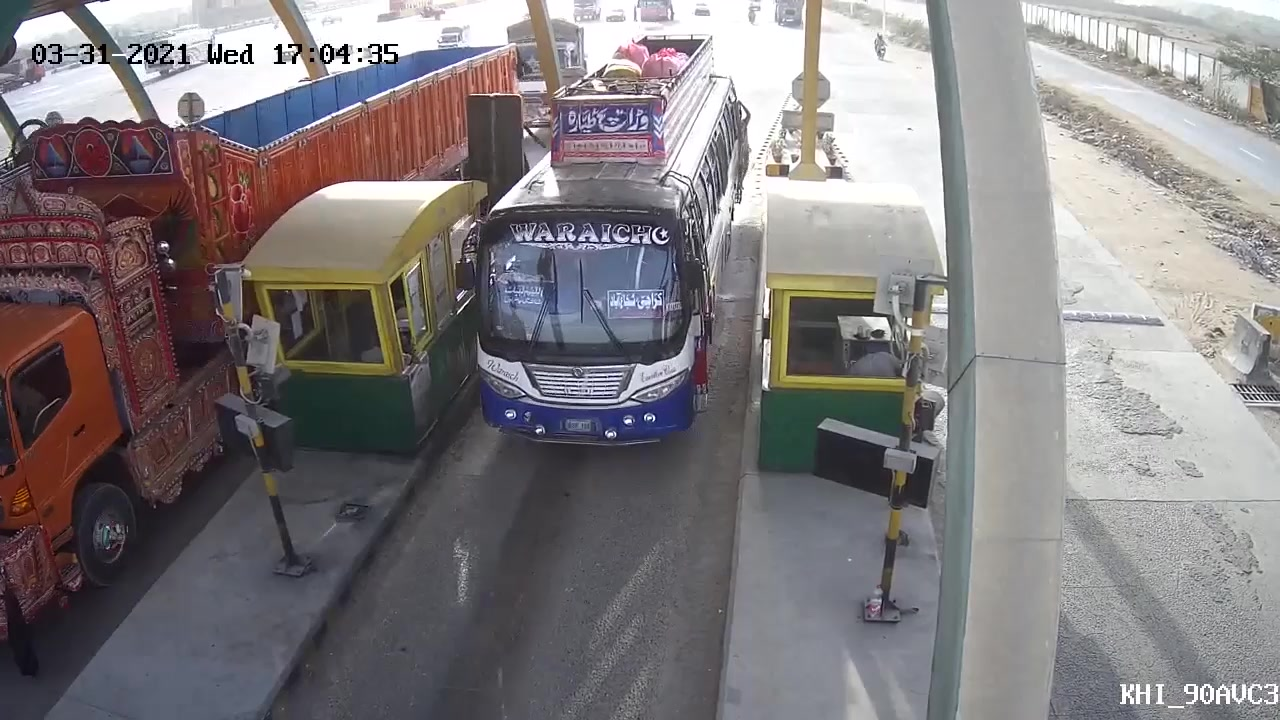F4: (453, 29, 747, 451)
